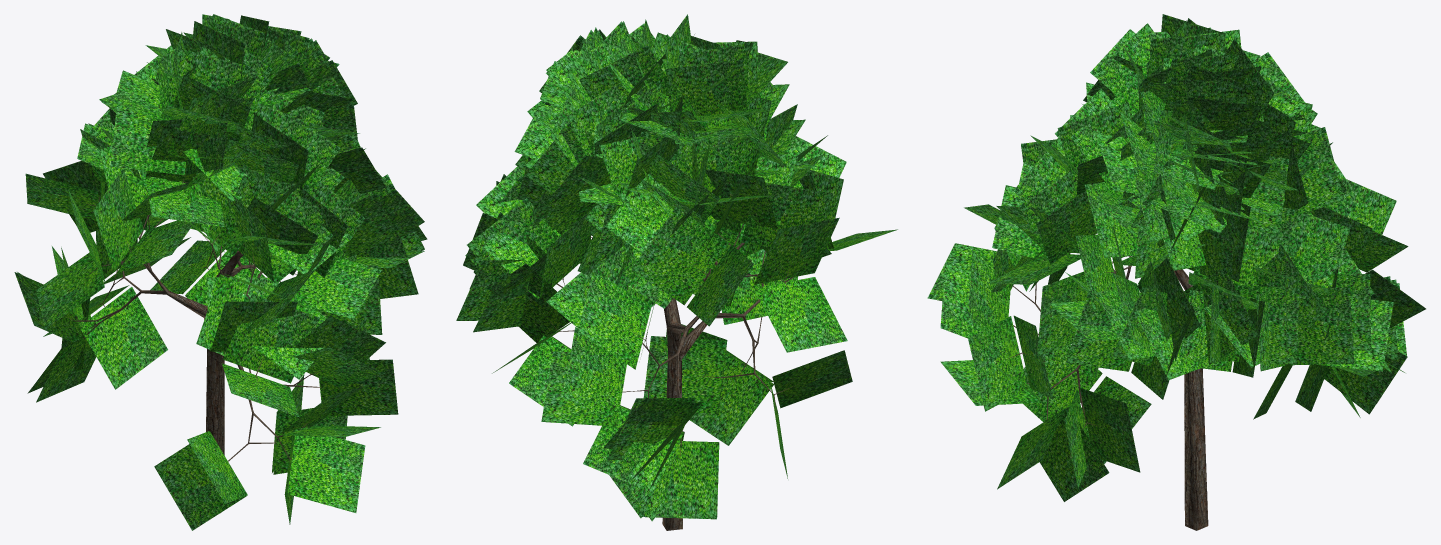
3 renders of one model, left to right at view 1: azimuth 30°, elevation 25°; view 2: azimuth 150°, elevation 25°; view 3: azimuth 270°, elevation 25°, orthographic. The views are drawn at different scales.
Visible parts, largest first — view 1: twig_014, tree_014; view 2: twig_014, tree_014; view 3: twig_014, tree_014.
Part boxes in pixels (left/top/right/bottom): twig_014: left=14, top=14, right=427, bottom=530; tree_014: left=65, top=175, right=322, bottom=466; twig_014: left=456, top=14, right=897, bottom=521; tree_014: left=548, top=223, right=795, bottom=530; twig_014: left=927, top=14, right=1425, bottom=501; tree_014: left=1008, top=254, right=1208, bottom=530.
Bounding box in the file's own units: 11.41 × 13.41 × 14.54.
Materials: 2 (2 with a texture image).
